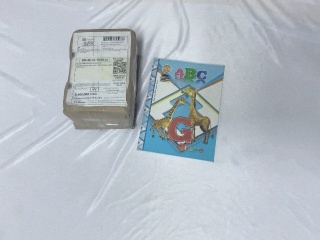book: (128, 57, 228, 160)
box: (61, 27, 142, 132)
